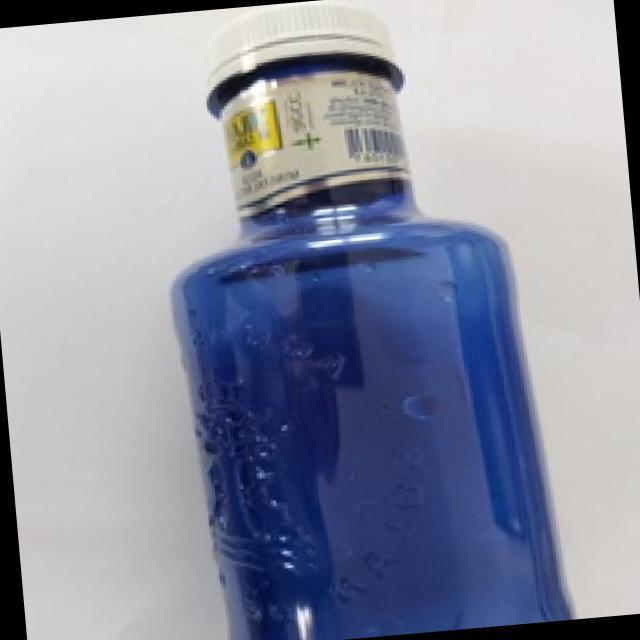good: (113, 0, 574, 640)
